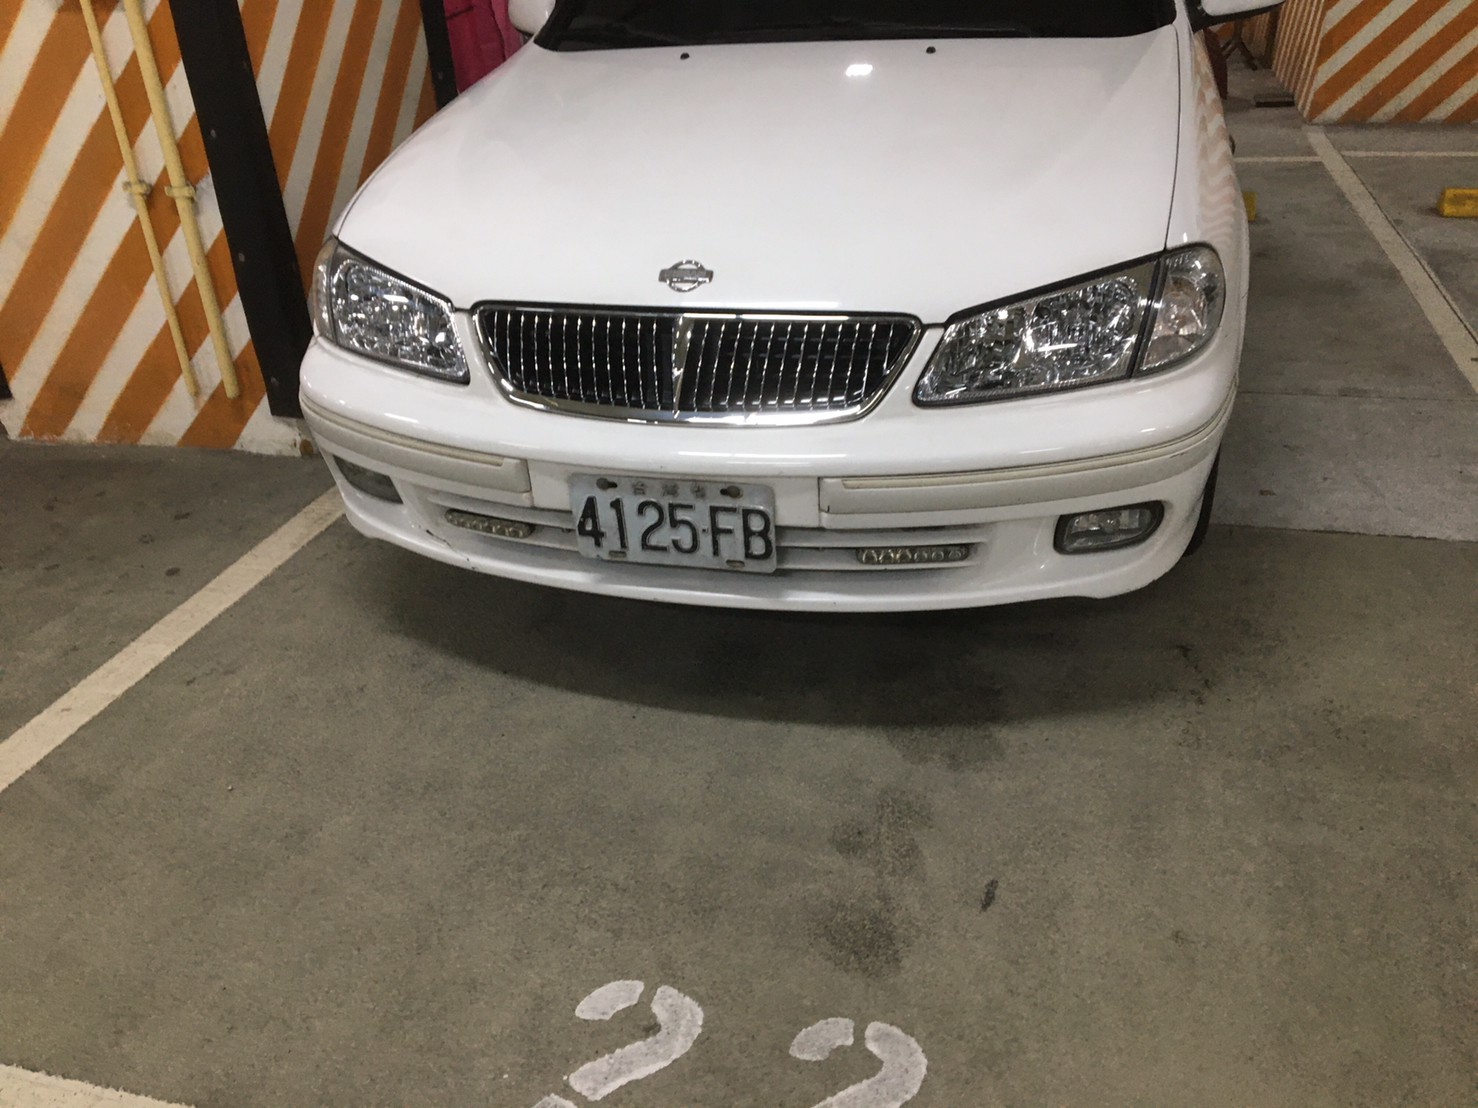LP: (557, 466, 788, 577)
